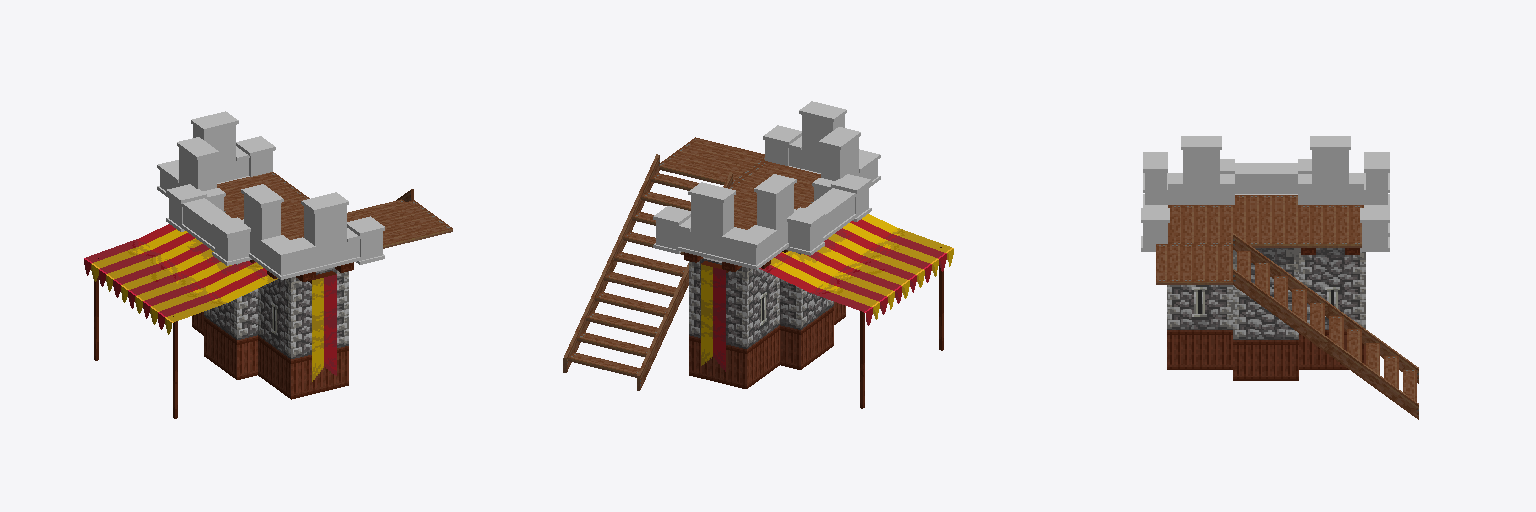
3 views of the same model, side by side, from view 1: azimuth 30°, elevation 25°; view 2: azimuth 150°, elevation 25°; view 3: azimuth 270°, elevation 25° (orthographic).
Parts seen in each view (by area): view 1: cuboid, plane; view 2: cuboid, plane; view 3: cuboid.
Boxes of the visible parts, <box> form: cuboid: <box>94,111,452,418</box>; plane: <box>84,224,336,381</box>; cuboid: <box>563,101,943,408</box>; plane: <box>701,214,953,371</box>; cuboid: <box>1141,136,1418,419</box>.
Bounding box in the file's own units: 10.56 × 7.38 × 9.44.
Materials: 4 (3 with a texture image).